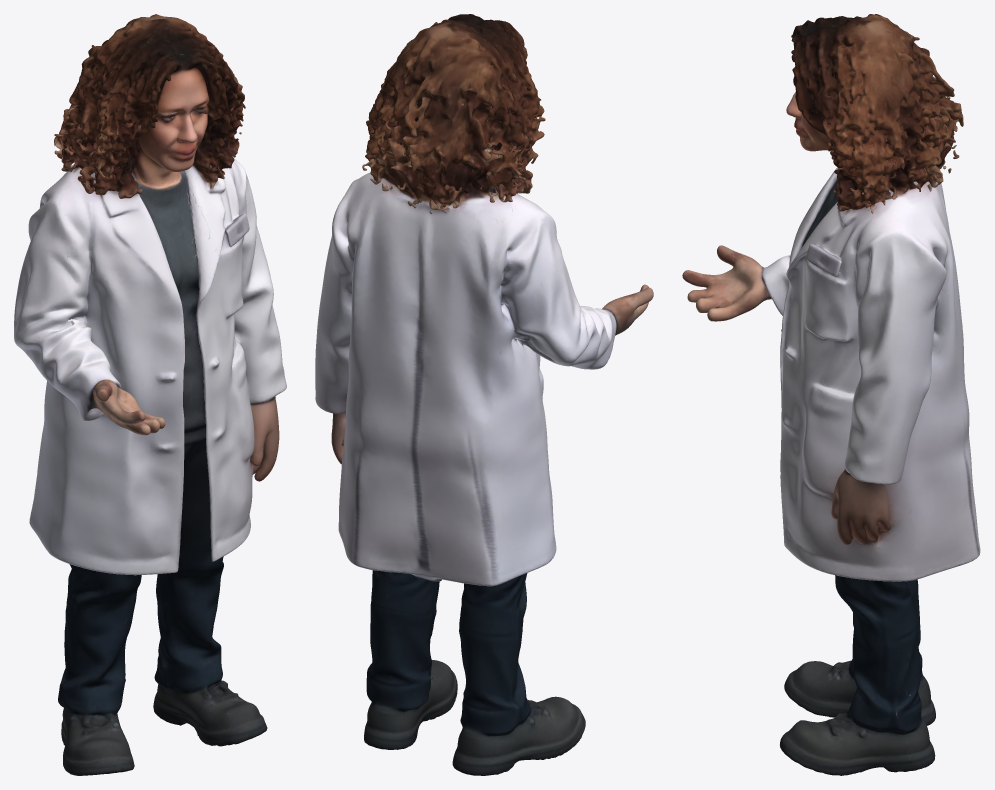
The model's file is femme.glb.
3 renders of one model, left to right at view 1: azimuth 30°, elevation 25°; view 2: azimuth 150°, elevation 25°; view 3: azimuth 270°, elevation 25°, orthographic.
Parts seen in each view (by area): view 1: world; view 2: world; view 3: world.
Boxes of the visible parts, x1,y1,x2,y2 form: world: [14, 14, 286, 775]; world: [315, 14, 653, 775]; world: [682, 14, 980, 775].
Size of the model in its own units: 0.3837 by 1 by 0.3731.
Materials: 1 (1 with a texture image).
